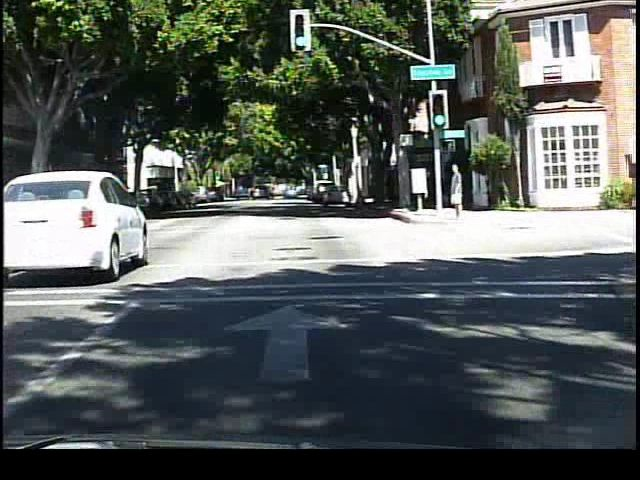person: (446, 158, 467, 219)
